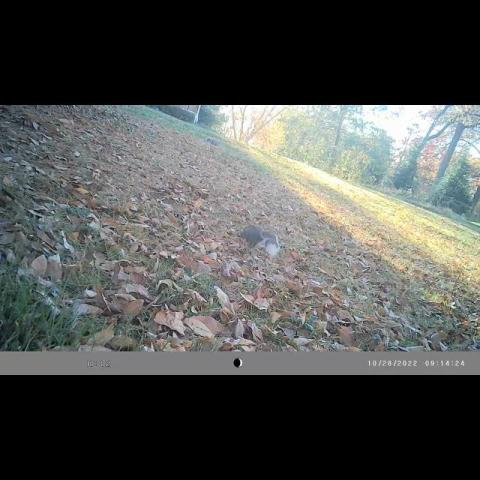small_animal: (239, 224, 280, 258), (206, 136, 221, 148)
